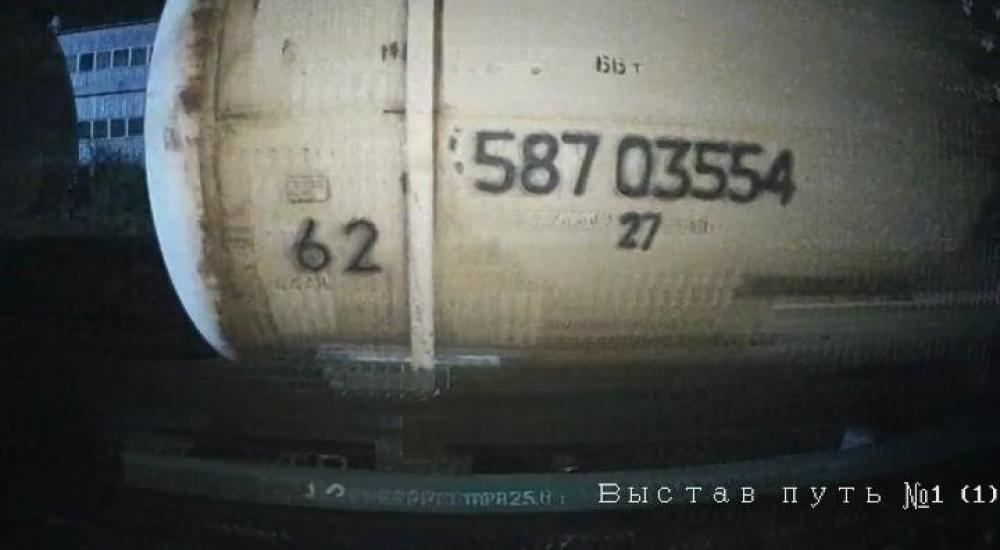Wagon-number: (469, 124, 801, 208)
